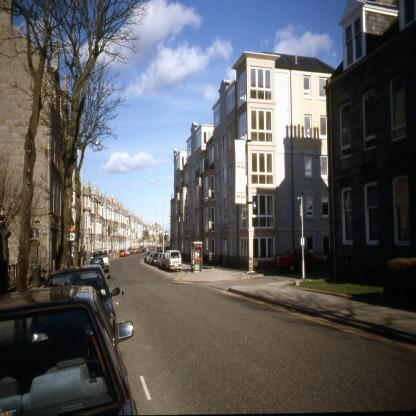Car: (1, 289, 141, 416), (42, 263, 123, 329), (92, 248, 109, 269), (93, 257, 106, 274), (152, 253, 162, 266), (126, 250, 141, 258), (158, 253, 164, 268), (146, 252, 152, 264), (163, 253, 167, 269), (150, 252, 154, 266), (121, 250, 126, 258)
